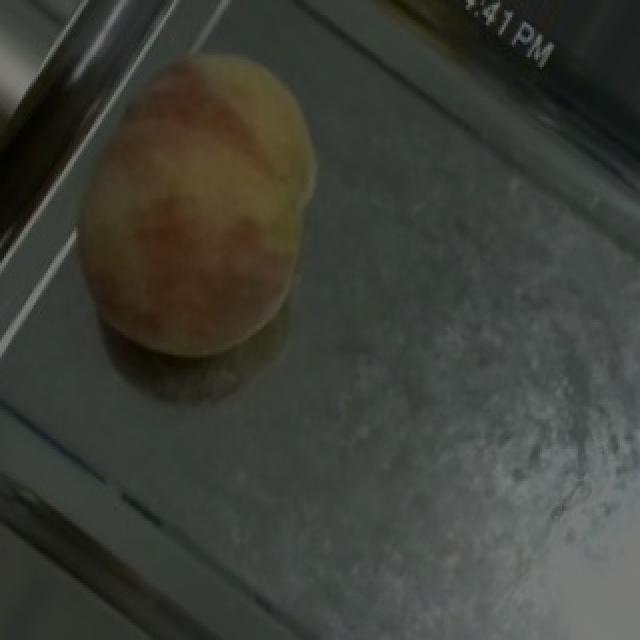Fruit: (32, 0, 366, 429)
